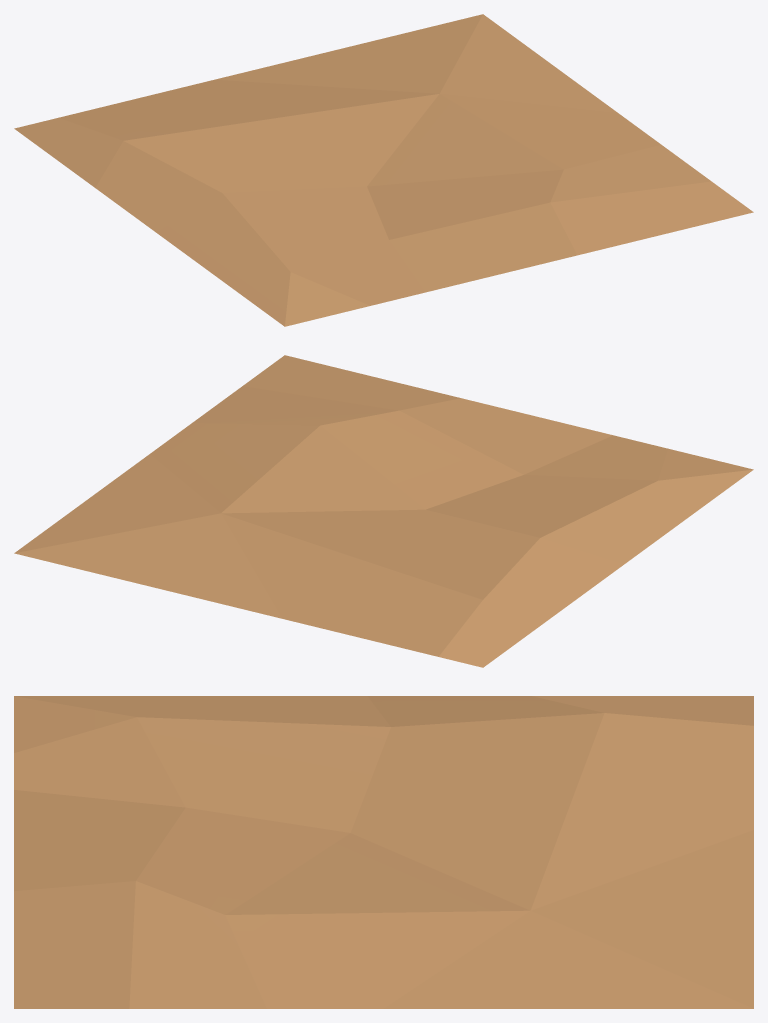
The model's file is Ground_Tile_B.fbx.
The picture shows the model from 3 angles, top to bottom: view 1: azimuth 30°, elevation 25°; view 2: azimuth 150°, elevation 25°; view 3: azimuth 270°, elevation 25°; orthographic projection. The views are drawn at different scales.
Visible parts, largest first — view 1: Ground_Tile_B; view 2: Ground_Tile_B; view 3: Ground_Tile_B.
Part boxes in pixels (bbox=[...]): Ground_Tile_B: bbox=[14, 14, 753, 326]; Ground_Tile_B: bbox=[14, 355, 753, 667]; Ground_Tile_B: bbox=[14, 696, 753, 1008].
Size of the model in its own units: 300 by 9.78 by 300.
